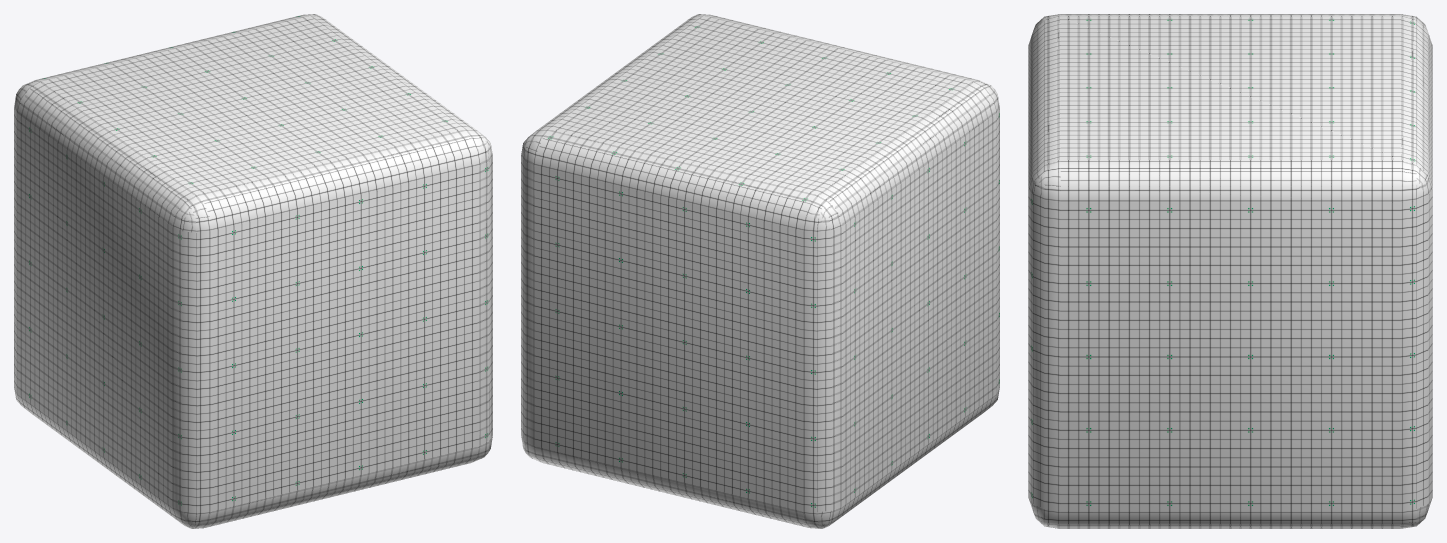
File: physic_TEST.fbx
The picture shows the model from 3 angles, left to right: view 1: azimuth 30°, elevation 25°; view 2: azimuth 150°, elevation 25°; view 3: azimuth 270°, elevation 25°; orthographic projection. The views are drawn at different scales.
Parts seen in each view (by area): view 1: Cube; view 2: Cube; view 3: Cube.
Part boxes in pixels (left/top/right/bottom): Cube: left=14, top=14, right=492, bottom=528; Cube: left=521, top=14, right=999, bottom=528; Cube: left=1028, top=14, right=1432, bottom=528.
Bounding box in the file's own units: 20000 × 20000 × 20000.
